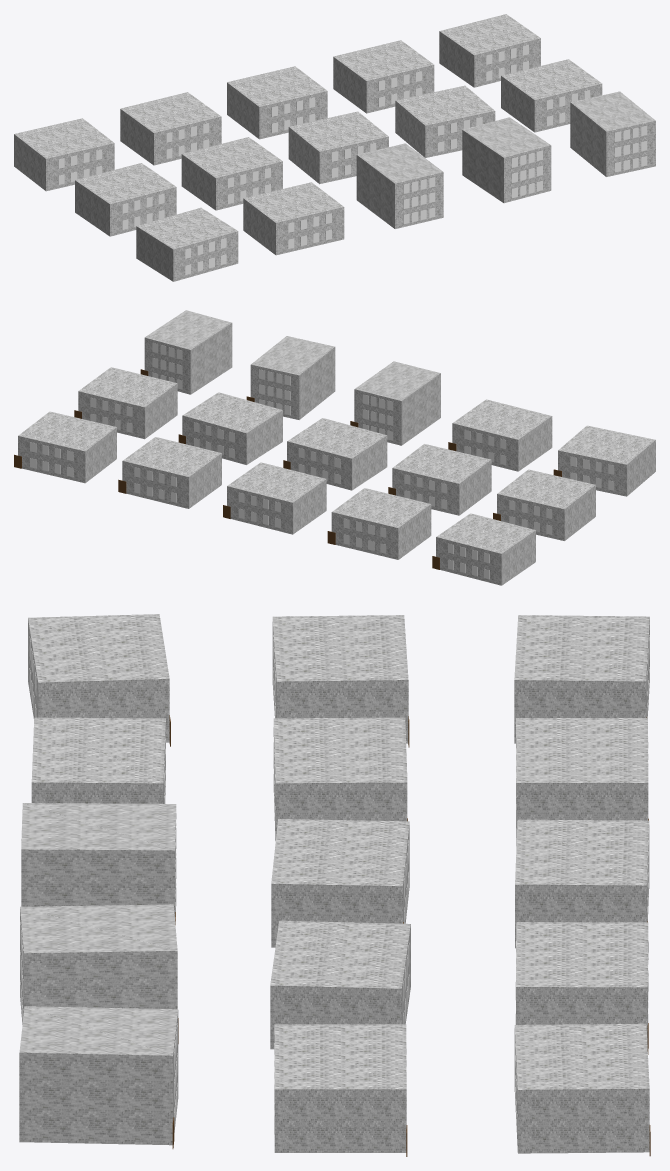
Rendered from bld_mlmuxlgl_k5srt73.glb.
3 views of the same model, one above another, from view 1: azimuth 30°, elevation 25°; view 2: azimuth 150°, elevation 25°; view 3: azimuth 270°, elevation 25° (orthographic). The views are drawn at different scales.
Visible parts, largest first — view 1: building-building-1771106248594-13, building-building-1771106248594-12, building-building-1771106248594-10, building-building-1771106248594-14, building-building-1771106248594-11, building-building-1771106248594-5, building-building-1771106248594-4, building-building-1771106248594-6, building-building-1771106248594-1, building-building-1771106248594-3, building-building-1771106248594-0, building-building-1771106248594-2 (+3 smaller); view 2: building-building-1771106248594-14, building-building-1771106248594-1, building-building-1771106248594-3, building-building-1771106248594-2, building-building-1771106248594-12, building-building-1771106248594-0, building-building-1771106248594-4, building-building-1771106248594-13, building-building-1771106248594-7, building-building-1771106248594-11, building-building-1771106248594-8, building-building-1771106248594-9 (+3 smaller); view 3: building-building-1771106248594-14, building-building-1771106248594-4, building-building-1771106248594-9, building-building-1771106248594-13, building-building-1771106248594-12, building-building-1771106248594-10, building-building-1771106248594-8, building-building-1771106248594-7, building-building-1771106248594-5, building-building-1771106248594-0, building-building-1771106248594-2, building-building-1771106248594-6 (+3 smaller).
Part boxes in pixels (bbox=[...]): building-building-1771106248594-13: bbox=[462, 117, 551, 203]; building-building-1771106248594-12: bbox=[356, 143, 443, 228]; building-building-1771106248594-10: bbox=[136, 207, 238, 281]; building-building-1771106248594-14: bbox=[570, 91, 655, 176]; building-building-1771106248594-11: bbox=[243, 182, 344, 255]; building-building-1771106248594-5: bbox=[75, 163, 176, 236]; building-building-1771106248594-4: bbox=[439, 14, 540, 87]; building-building-1771106248594-6: bbox=[181, 137, 282, 210]; building-building-1771106248594-1: bbox=[120, 92, 221, 165]; building-building-1771106248594-3: bbox=[333, 40, 434, 113]; building-building-1771106248594-0: bbox=[14, 118, 114, 191]; building-building-1771106248594-2: bbox=[227, 66, 327, 139]; building-building-1771106248594-14: bbox=[140, 310, 232, 394]; building-building-1771106248594-1: bbox=[327, 488, 431, 559]; building-building-1771106248594-3: bbox=[118, 437, 221, 508]; building-building-1771106248594-2: bbox=[223, 462, 326, 534]; building-building-1771106248594-12: bbox=[350, 361, 440, 445]; building-building-1771106248594-0: bbox=[432, 513, 535, 585]; building-building-1771106248594-4: bbox=[14, 411, 116, 483]; building-building-1771106248594-13: bbox=[246, 336, 335, 419]; building-building-1771106248594-7: bbox=[283, 418, 387, 490]; building-building-1771106248594-11: bbox=[448, 399, 552, 471]; building-building-1771106248594-8: bbox=[178, 392, 282, 464]; building-building-1771106248594-9: bbox=[74, 367, 177, 439]; building-building-1771106248594-14: bbox=[19, 1006, 178, 1148]; building-building-1771106248594-4: bbox=[514, 1023, 650, 1156]; building-building-1771106248594-9: bbox=[274, 1024, 407, 1156]; building-building-1771106248594-13: bbox=[20, 904, 178, 1043]; building-building-1771106248594-12: bbox=[21, 803, 176, 924]; building-building-1771106248594-10: bbox=[28, 614, 170, 746]; building-building-1771106248594-8: bbox=[270, 920, 410, 1049]; building-building-1771106248594-7: bbox=[271, 819, 409, 947]; building-building-1771106248594-5: bbox=[272, 615, 409, 747]; building-building-1771106248594-0: bbox=[514, 615, 649, 743]; building-building-1771106248594-2: bbox=[515, 819, 649, 948]; building-building-1771106248594-6: bbox=[273, 717, 407, 840].
Bounding box in the file's own units: 103 × 9.03 × 57.45.
Materials: 75 (15 with a texture image).
